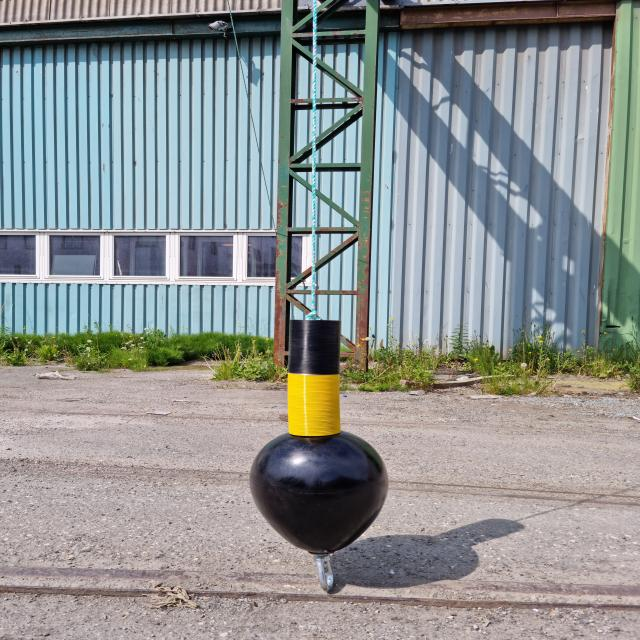east: (246, 319, 392, 551)
